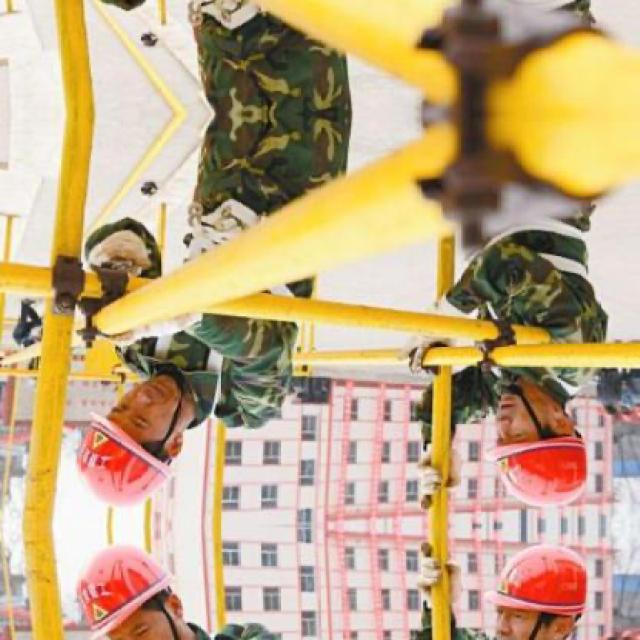con casco: (438, 365, 604, 518), (66, 365, 218, 512)
